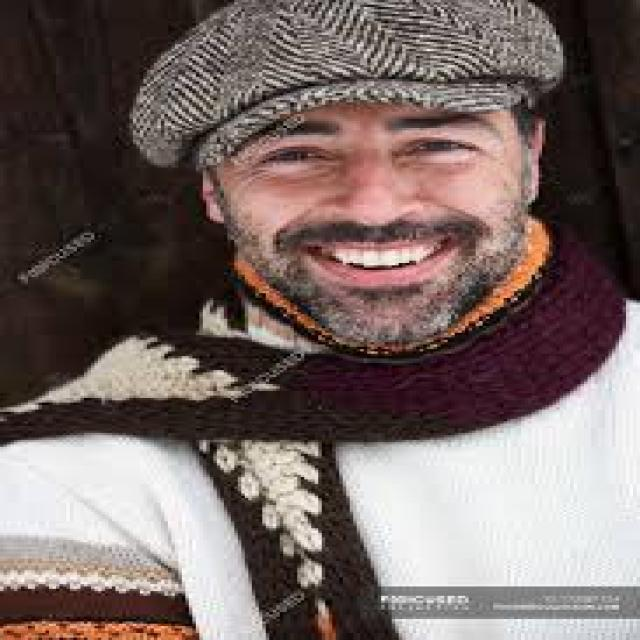3_gorra: (125, 0, 570, 174)
